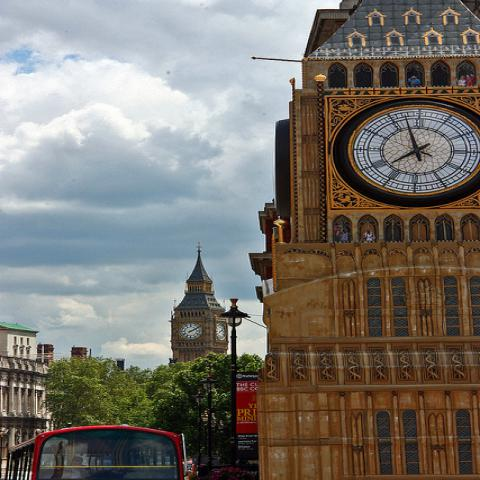bus: (5, 424, 188, 479)
